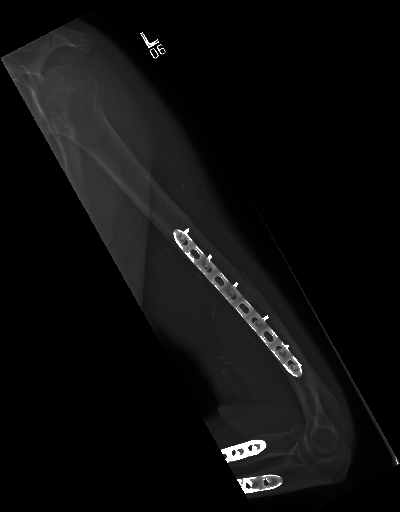implant: (172, 225, 303, 380), (218, 437, 271, 466), (241, 467, 289, 494)
